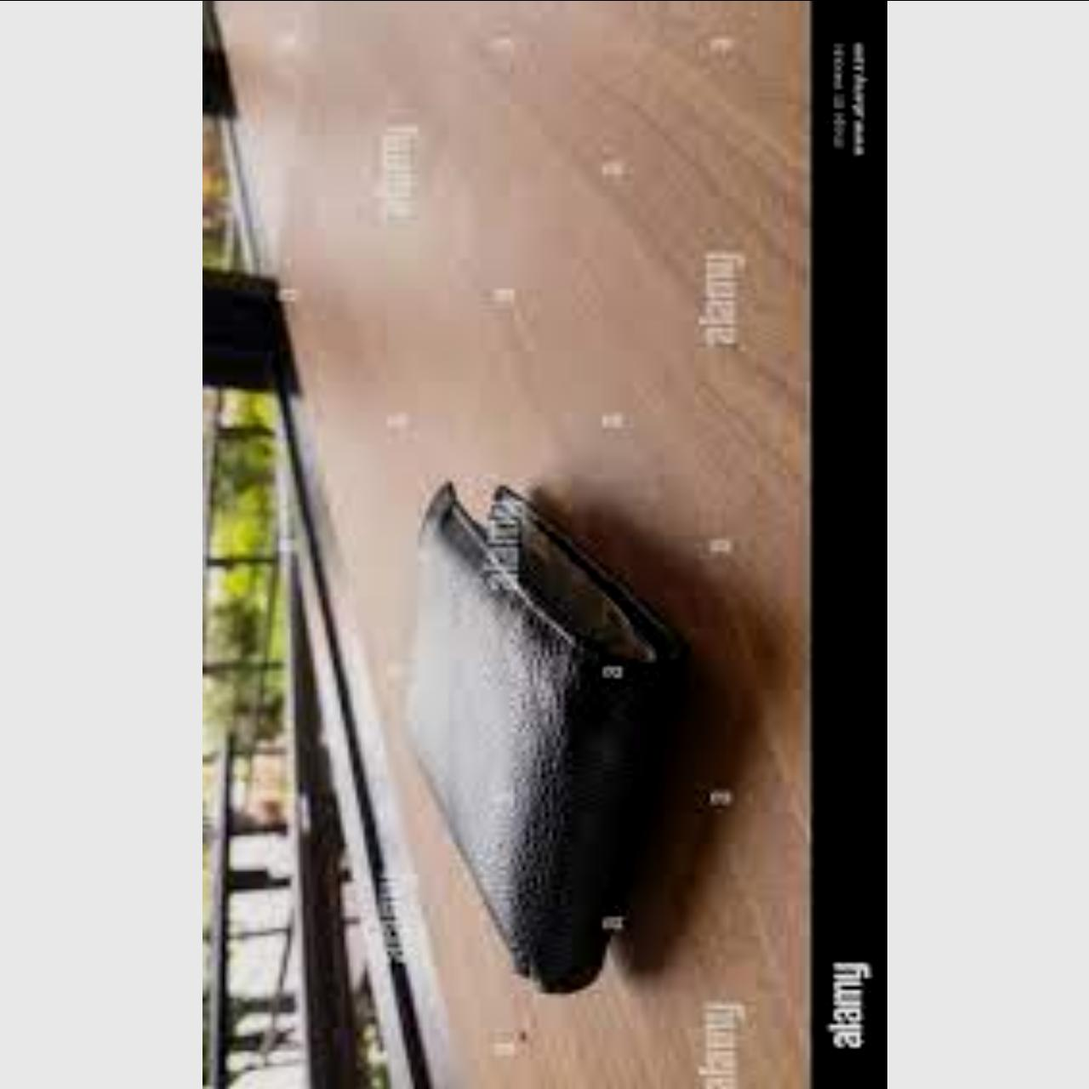wallet: (322, 339, 710, 1012)
